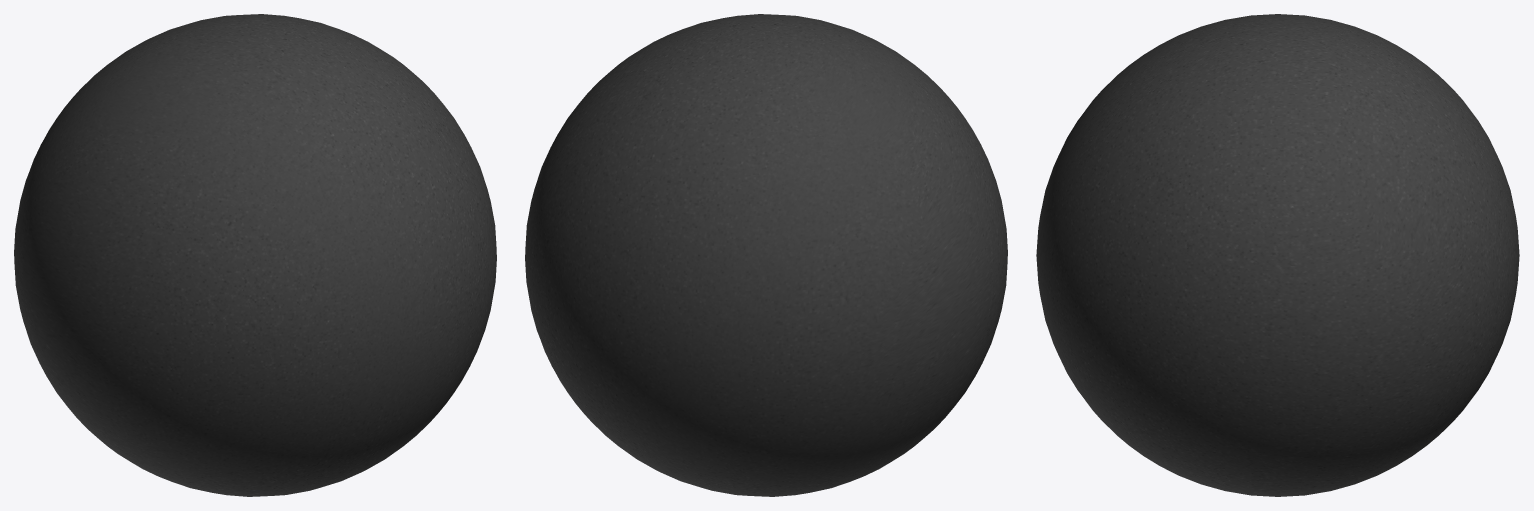
File: StonePlanetBlank.glb
The picture shows the model from 3 angles, left to right: view 1: azimuth 30°, elevation 25°; view 2: azimuth 150°, elevation 25°; view 3: azimuth 270°, elevation 25°; orthographic projection.
Parts seen in each view (by area): view 1: mesh_id27; view 2: mesh_id27; view 3: mesh_id27.
Part boxes in pixels (x1=…): mesh_id27: x1=14, y1=14, x2=496, y2=496; mesh_id27: x1=525, y1=14, x2=1007, y2=496; mesh_id27: x1=1036, y1=14, x2=1519, y2=496.
Bounding box in the file's own units: 0.2 × 0.2 × 0.2.
1 material, 1 textured.
